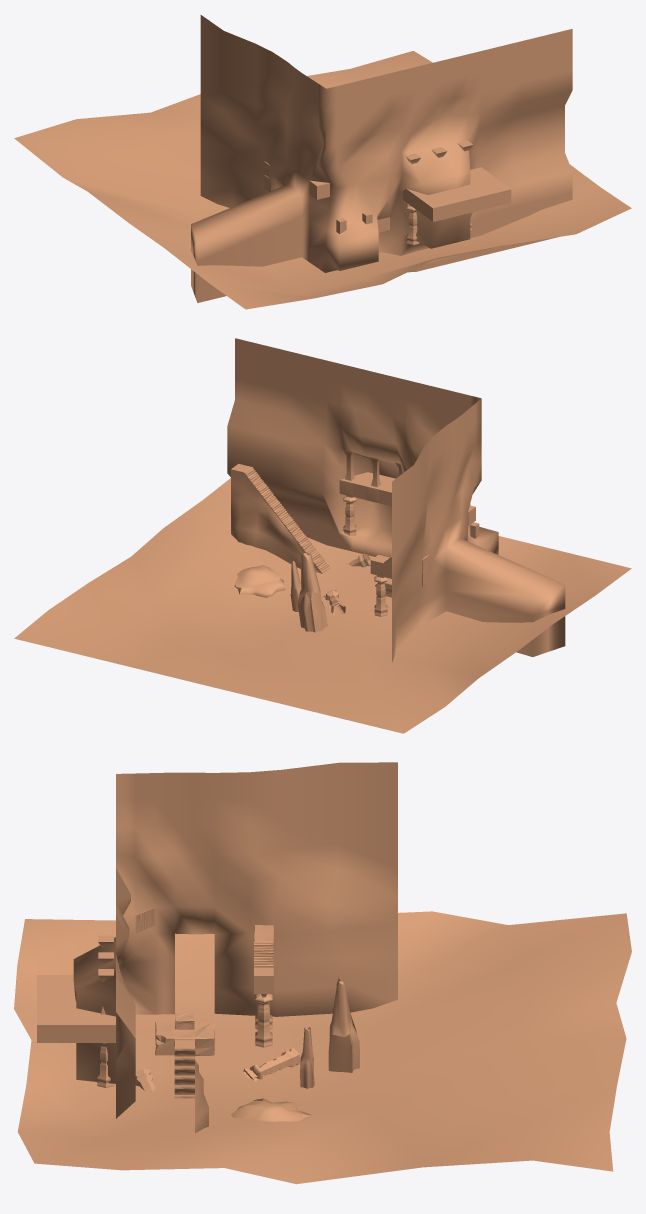
File: carved_mountain_env.fbx
3 renders of one model, top to bottom at view 1: azimuth 30°, elevation 25°; view 2: azimuth 150°, elevation 25°; view 3: azimuth 270°, elevation 25°, orthographic. The views are drawn at different scales.
Visible parts, largest first — view 1: carved_temple_env; view 2: carved_temple_env; view 3: carved_temple_env.
Boxes of the visible parts, x1=… form: carved_temple_env: x1=14, y1=15, x2=631, y2=309; carved_temple_env: x1=14, y1=338, x2=631, y2=733; carved_temple_env: x1=14, y1=762, x2=631, y2=1184.
Size of the model in its own units: 30.55 by 16.17 by 31.31.
Materials: 1 (1 with a texture image).
